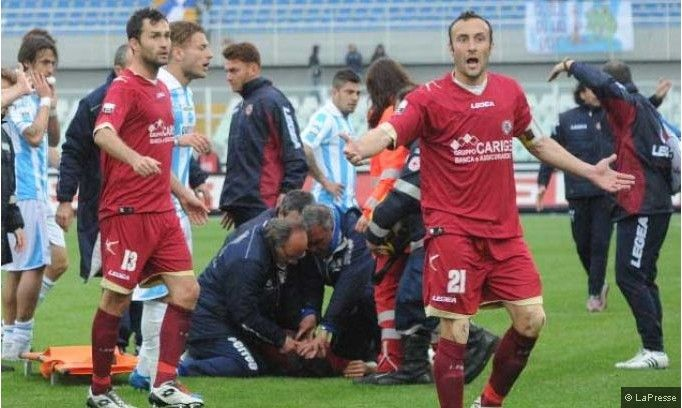10+: (1, 2, 682, 408)
down: (244, 315, 377, 378)
